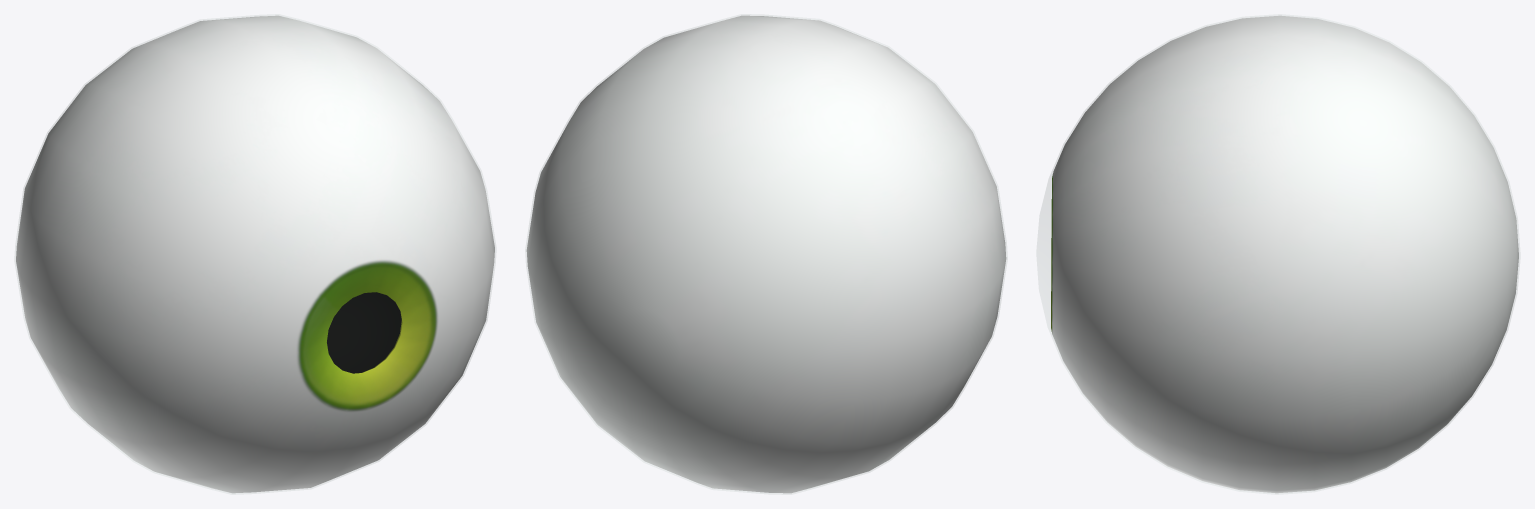
The picture shows the model from 3 angles, left to right: view 1: azimuth 30°, elevation 25°; view 2: azimuth 150°, elevation 25°; view 3: azimuth 270°, elevation 25°; orthographic projection.
Visible parts, largest first — view 1: eye, lens; view 2: eye, lens; view 3: eye, lens.
Boxes of the visible parts, x1,y1,x2,y2 form: eye: (16,15,494,493); lens: (15,14,495,494); eye: (526,15,1006,493); lens: (525,14,1007,494); eye: (1051,15,1518,493); lens: (1037,14,1519,494).
Size of the model in its own units: 2.01 by 2.01 by 2.01.
Materials: 1 (1 with a texture image).
